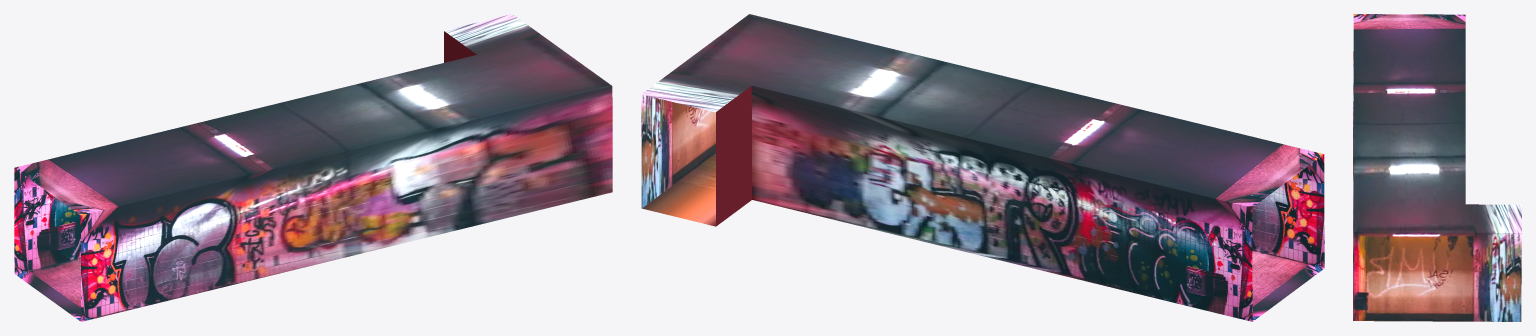
The model's file is tunnel_testlow-BwL7-223.glb.
3 renders of one model, left to right at view 1: azimuth 30°, elevation 25°; view 2: azimuth 150°, elevation 25°; view 3: azimuth 270°, elevation 25°, orthographic. The views are drawn at different scales.
Visible parts, largest first — view 1: Plane_Material.001_0; view 2: Plane_Material.001_0; view 3: Plane_Material.001_0.
Part boxes in pixels (x1,y1,x2,y2): Plane_Material.001_0: (14,14,612,321); Plane_Material.001_0: (641,14,1324,321); Plane_Material.001_0: (1353,14,1521,321).
Bounding box in the file's own units: 13.3 × 2.56 × 4.35.
1 material, 1 textured.
